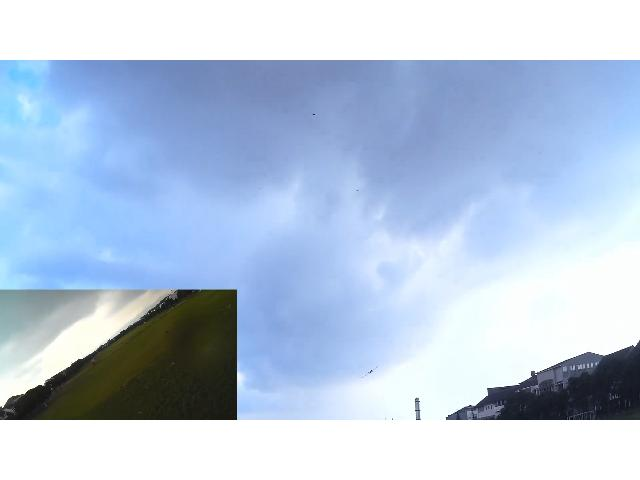Anti-Drone: (362, 365, 378, 379)
